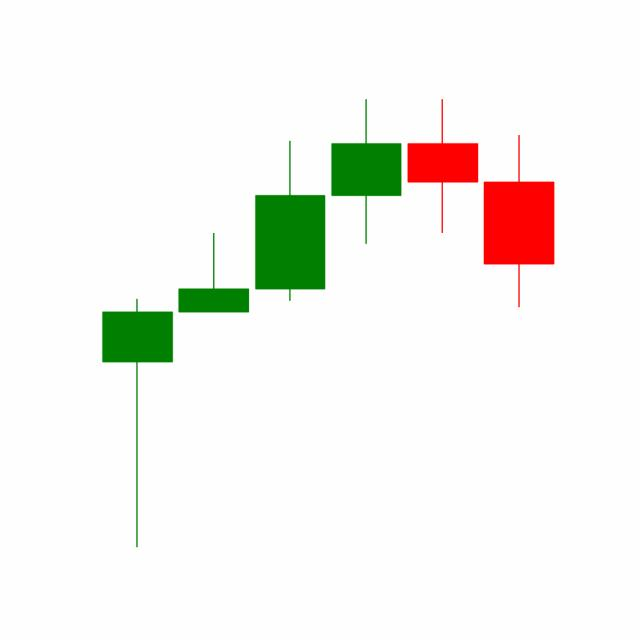Spinning Top: (403, 97, 481, 234)
